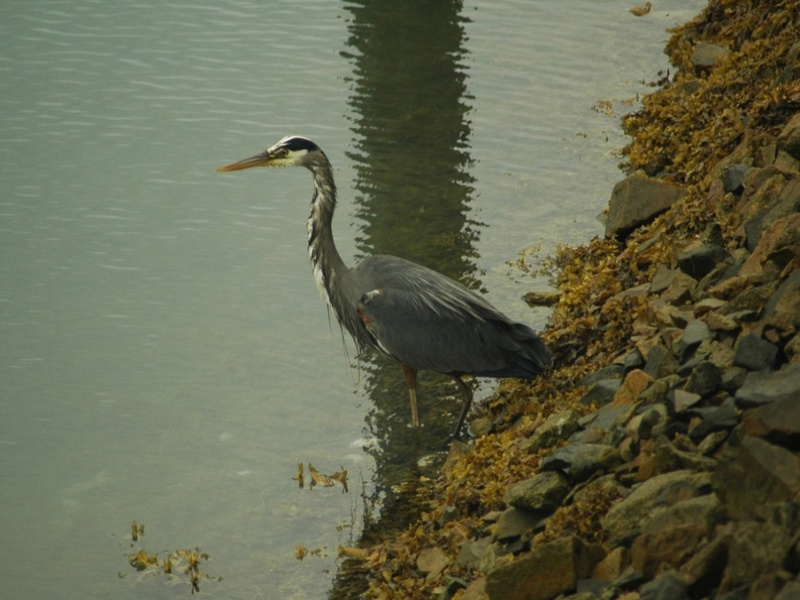heron: (218, 132, 573, 453)
